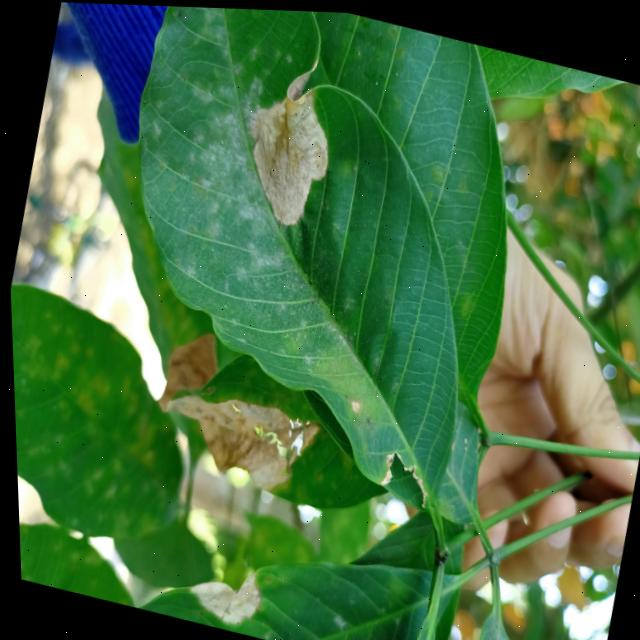Leaf-Blight: (228, 41, 350, 230), (148, 377, 322, 501), (152, 319, 225, 420), (177, 552, 265, 629), (403, 462, 430, 504), (376, 446, 394, 483), (389, 447, 413, 468), (345, 395, 358, 412)
